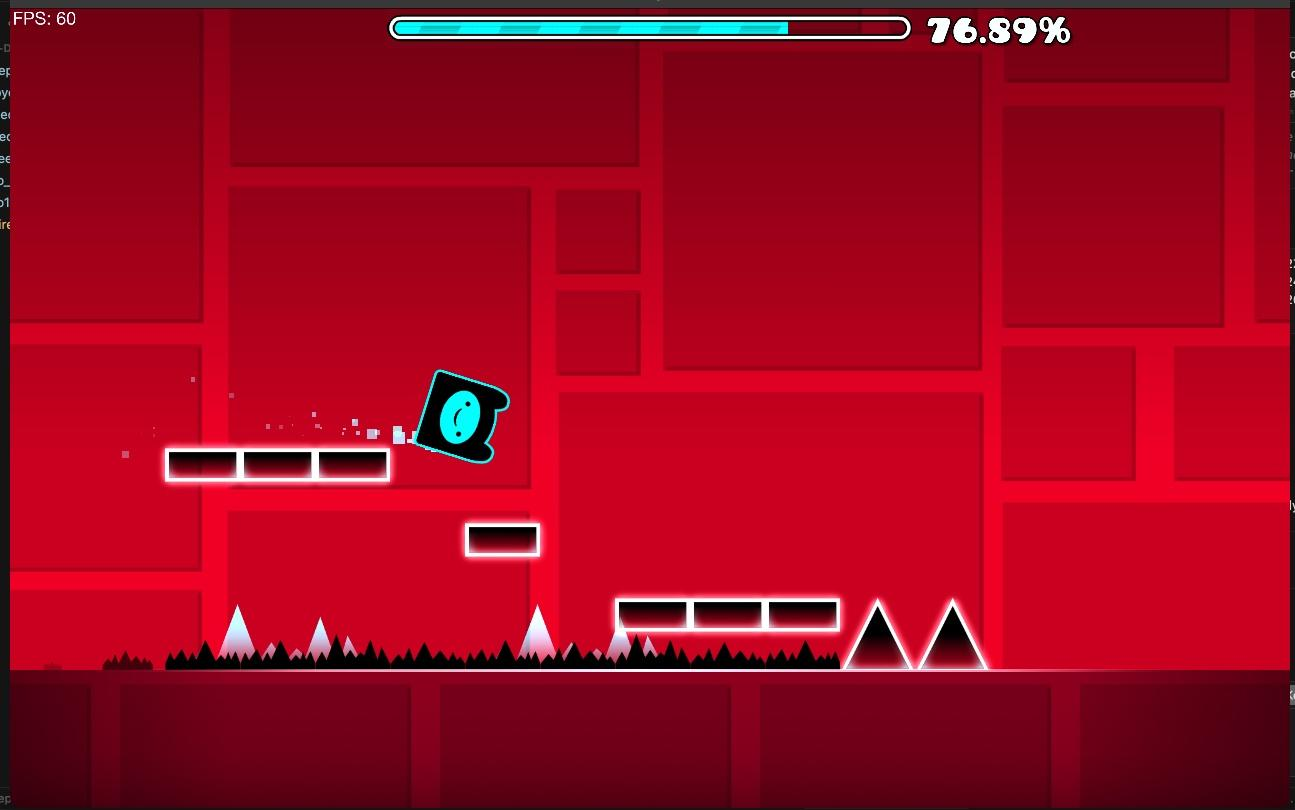platform: (166, 447, 390, 485), (617, 597, 839, 632), (466, 524, 540, 558)
player: (413, 370, 508, 463)
spike: (167, 607, 764, 668), (843, 600, 987, 669)
